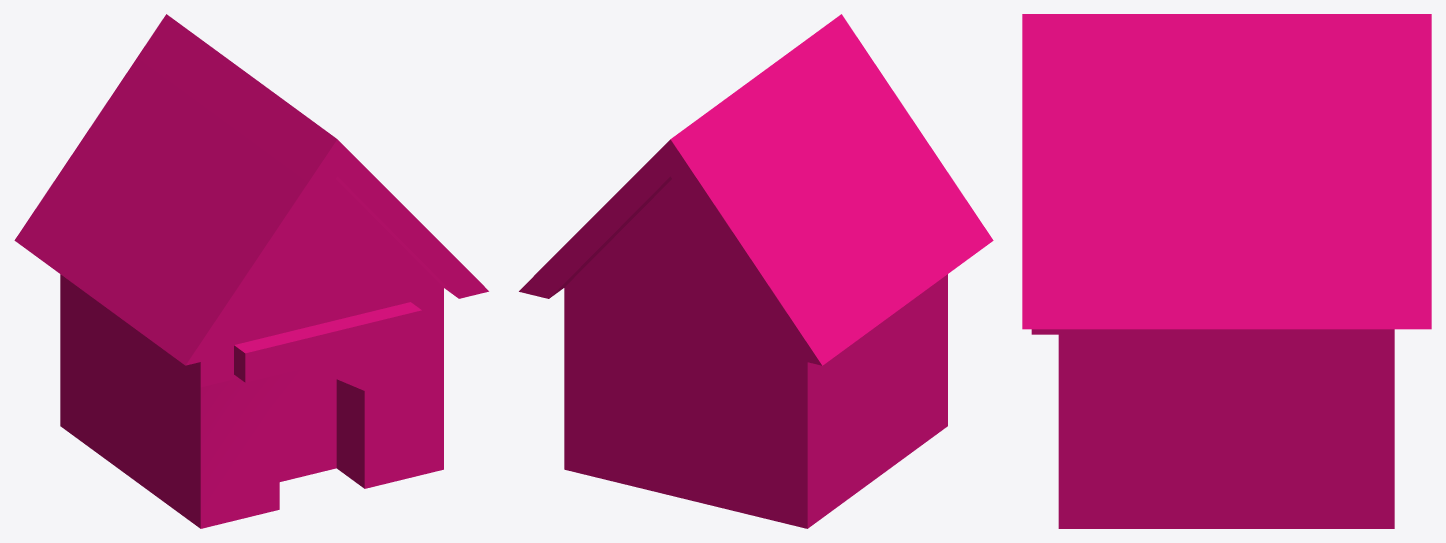
File: Dog_House.fbx
The picture shows the model from 3 angles, left to right: view 1: azimuth 30°, elevation 25°; view 2: azimuth 150°, elevation 25°; view 3: azimuth 270°, elevation 25°; orthographic projection. The views are drawn at different scales.
Visible parts, largest first — view 1: Doghouse; view 2: Doghouse; view 3: Doghouse.
Part boxes in pixels (x1,y1,x2,y2): Doghouse: [14, 14, 488, 528]; Doghouse: [519, 14, 993, 528]; Doghouse: [1022, 14, 1431, 528].
Size of the model in its own units: 155 by 151 by 181.
